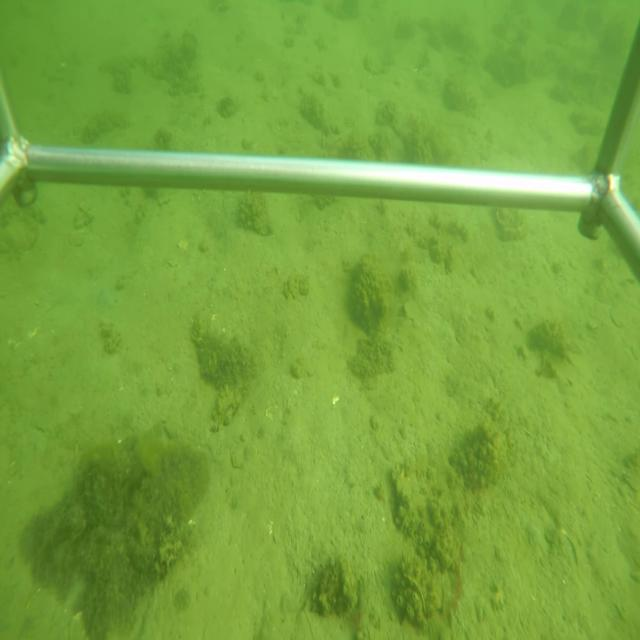Oyster-Closed: (400, 567, 429, 619)
